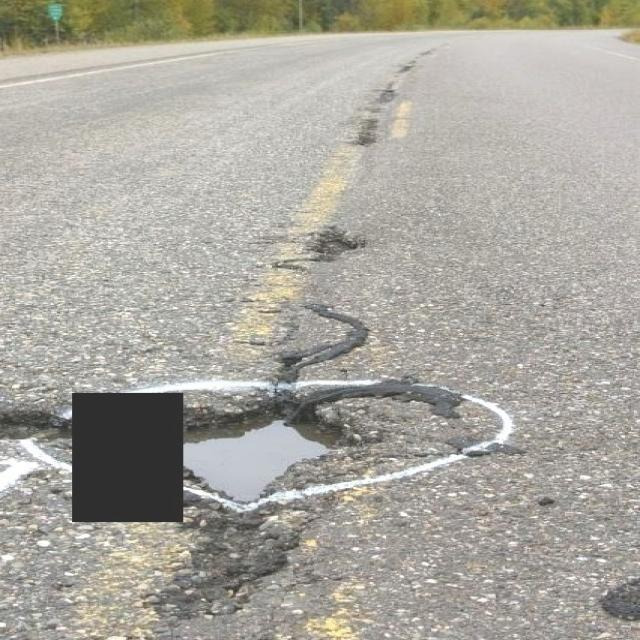road-pothole: (184, 394, 394, 531)
